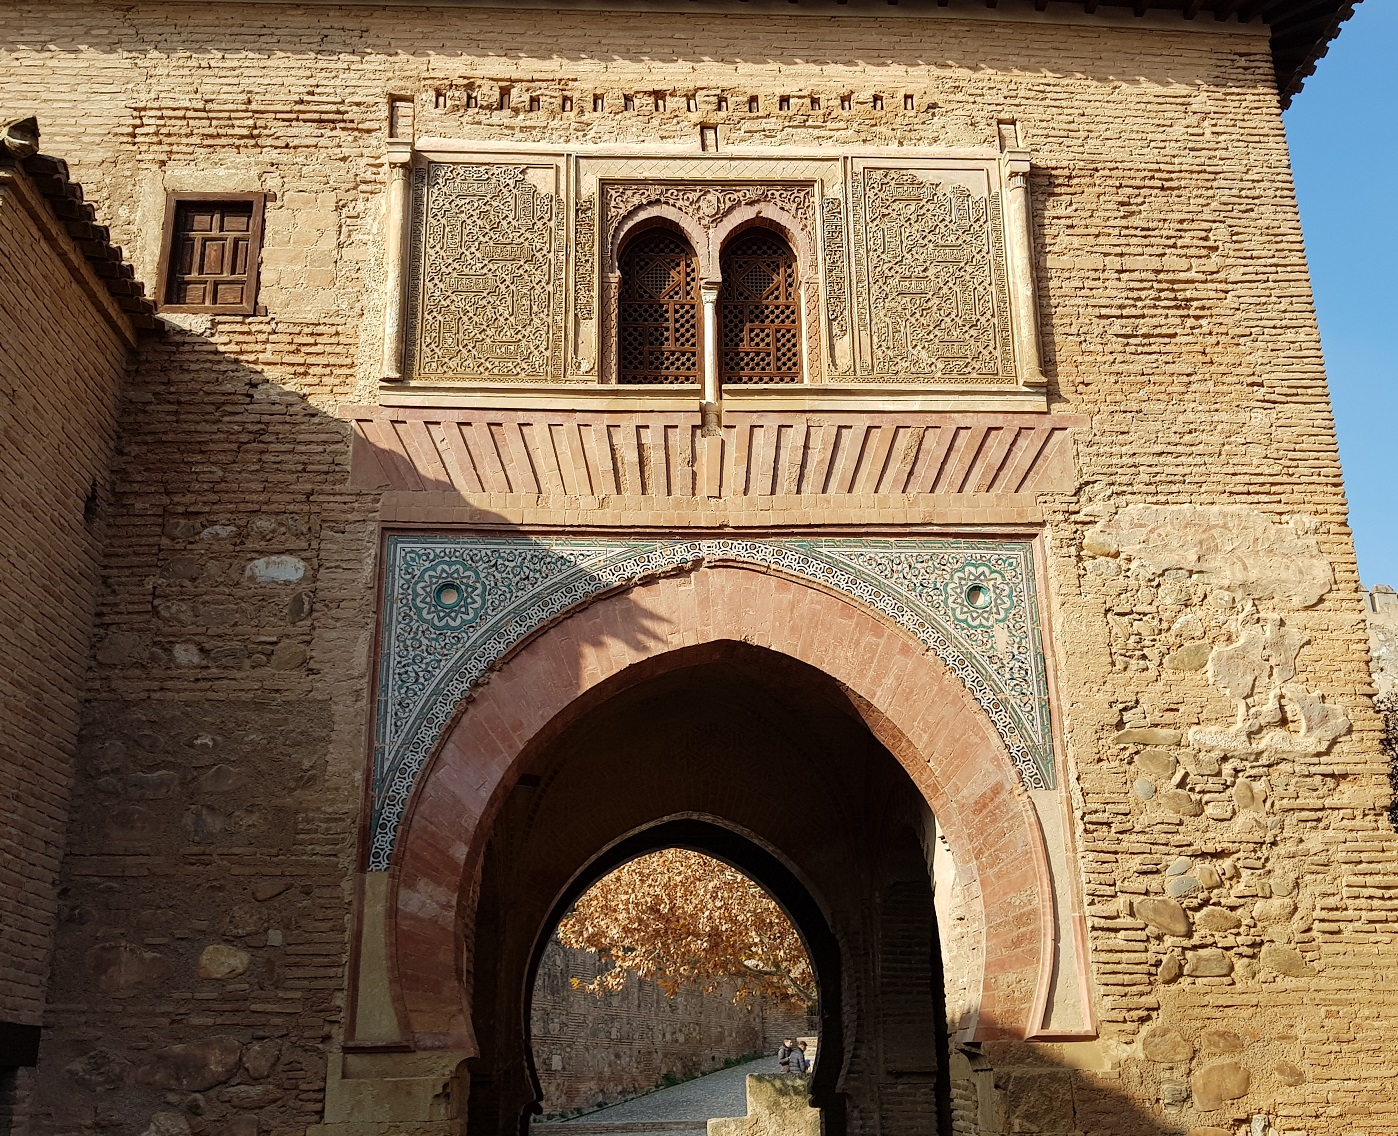arco-herradura: (401, 609, 1048, 1136), (708, 206, 809, 301), (605, 207, 709, 299)
dintel-adovelado: (345, 412, 1071, 511)
